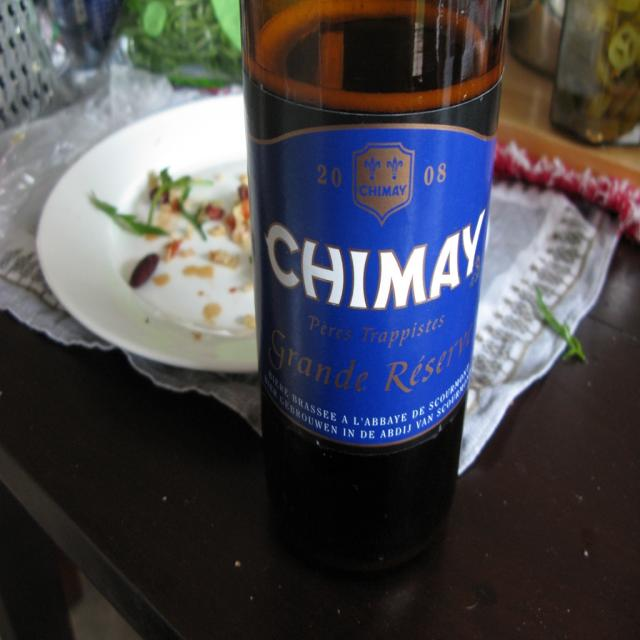chimay: (247, 123, 498, 447)
